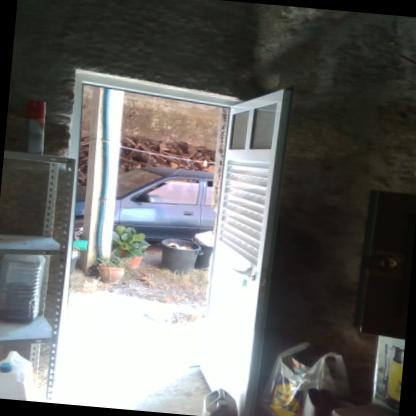open: (31, 58, 299, 415)
